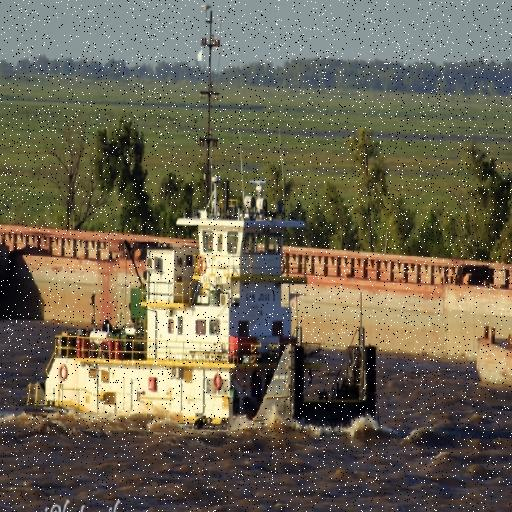tugboat: (23, 3, 383, 449)
